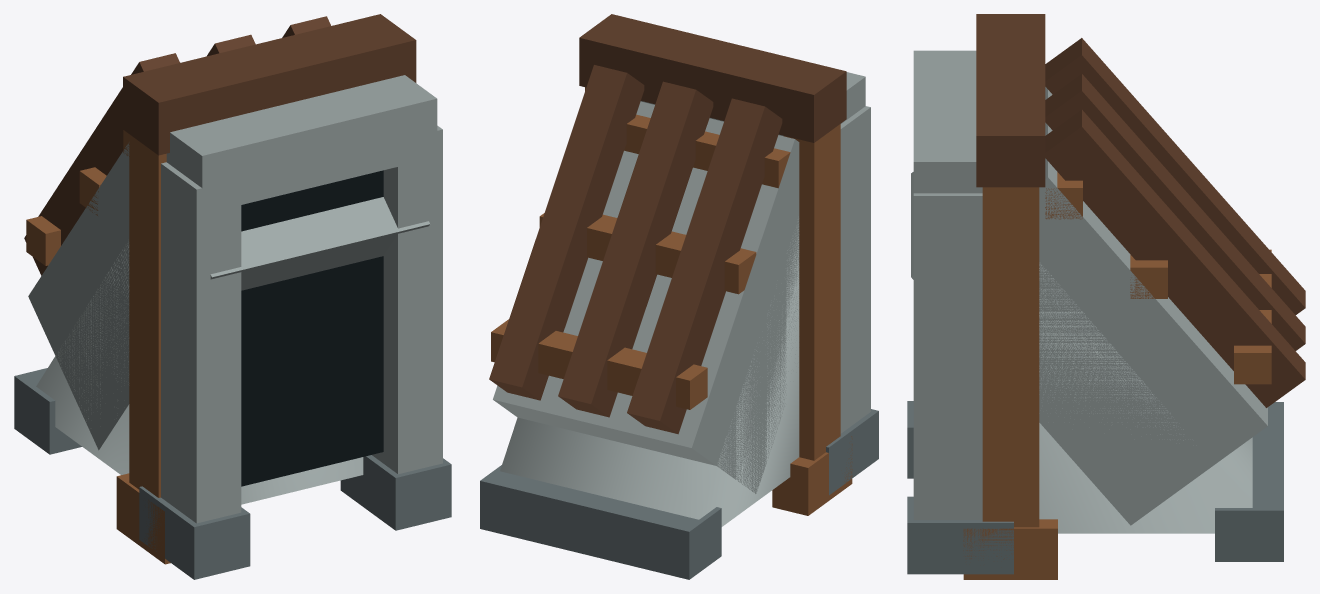
The model's file is idlecraft-mine.obj.
The picture shows the model from 3 angles, left to right: view 1: azimuth 30°, elevation 25°; view 2: azimuth 150°, elevation 25°; view 3: azimuth 270°, elevation 25°; orthographic projection. The views are drawn at different scales.
Visible parts, largest first — view 1: entrance-stone-column, mine-opening, rear-sloped-stone-shell, entrance-stone-header, entrance-timber-header, entrance-stone-foot, entrance-timber-post, rear-ground-seal, rear-sloped-timber-rib, buried-rear-stone-footing, left-timber-foot, rear-cross-brace; view 2: rear-sloped-timber-rib, rear-sloped-stone-shell, rear-ground-seal, entrance-timber-header, buried-rear-stone-footing, entrance-timber-post, rear-cross-brace, entrance-stone-column, left-timber-foot, entrance-stone-foot, entrance-stone-header; view 3: rear-sloped-stone-shell, rear-sloped-timber-rib, entrance-stone-column, entrance-timber-post, rear-ground-seal, entrance-timber-header, entrance-stone-header, buried-rear-stone-footing, entrance-stone-foot, rear-cross-brace, right-timber-foot.
Part boxes in pixels (x1,y1,x2,y2): entrance-stone-column: (161, 125, 442, 523); mine-opening: (241, 170, 383, 486); rear-sloped-stone-shell: (28, 142, 429, 450); entrance-stone-header: (166, 75, 437, 210); entrance-timber-header: (123, 14, 416, 155); entrance-stone-foot: (139, 455, 451, 579); entrance-timber-post: (129, 134, 166, 497); rear-ground-seal: (36, 241, 363, 504); rear-sloped-timber-rib: (24, 16, 330, 275); buried-rear-stone-footing: (14, 368, 81, 454); left-timber-foot: (116, 473, 170, 564); rear-cross-brace: (26, 130, 129, 265); rear-sloped-timber-rib: (489, 65, 782, 434); rear-sloped-stone-shell: (493, 101, 799, 493); rear-ground-seal: (500, 219, 799, 526); entrance-timber-header: (579, 14, 846, 142); buried-rear-stone-footing: (480, 465, 721, 579); entrance-timber-post: (585, 87, 840, 460); rear-cross-brace: (491, 114, 790, 409); entrance-stone-column: (641, 101, 870, 433); left-timber-foot: (772, 436, 852, 515); entrance-stone-foot: (826, 409, 878, 495); entrance-stone-header: (642, 72, 865, 136); rear-sloped-stone-shell: (911, 87, 1267, 525); rear-sloped-timber-rib: (1045, 38, 1305, 407); entrance-stone-column: (913, 193, 982, 520); entrance-timber-post: (982, 187, 1039, 527); rear-ground-seal: (1039, 264, 1252, 533); entrance-timber-header: (976, 14, 1045, 187); entrance-stone-header: (913, 50, 982, 193); buried-rear-stone-footing: (1215, 402, 1283, 561); entrance-stone-foot: (907, 401, 1013, 574); rear-cross-brace: (1045, 172, 1271, 384); right-timber-foot: (963, 519, 1057, 579).
Bounding box in the file's own units: 0.828 × 1.4 × 1.14.
